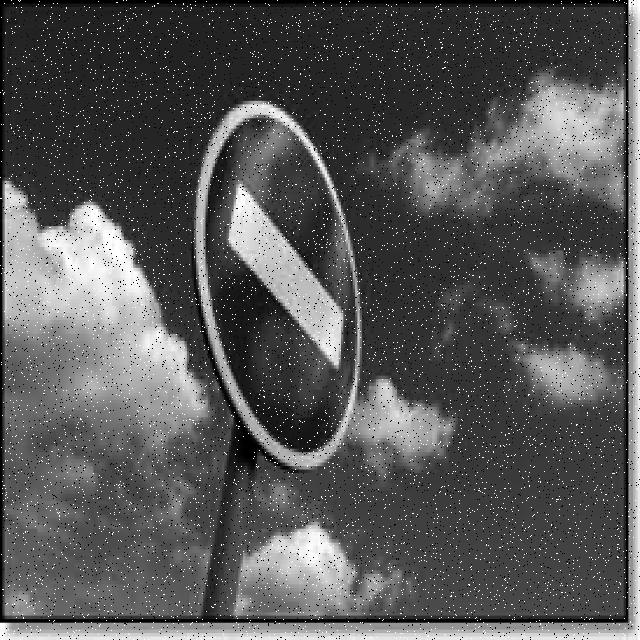no entry: (204, 115, 358, 452)
